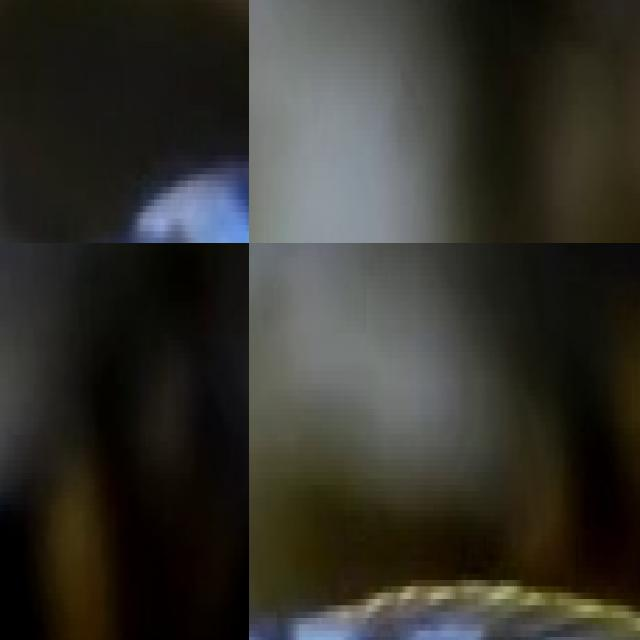fish: (0, 0, 249, 243), (428, 0, 640, 243)
